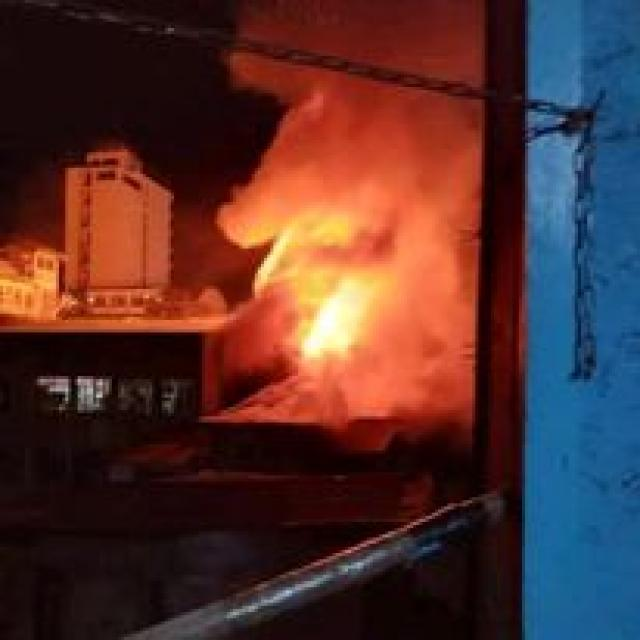Fire: (263, 218, 367, 384)
Smoke: (312, 87, 472, 417), (240, 8, 472, 206)
